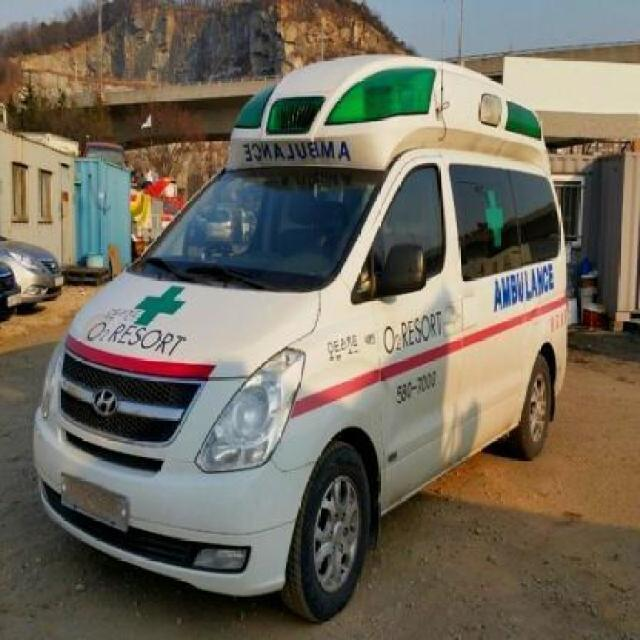emergency: (31, 52, 569, 624)
